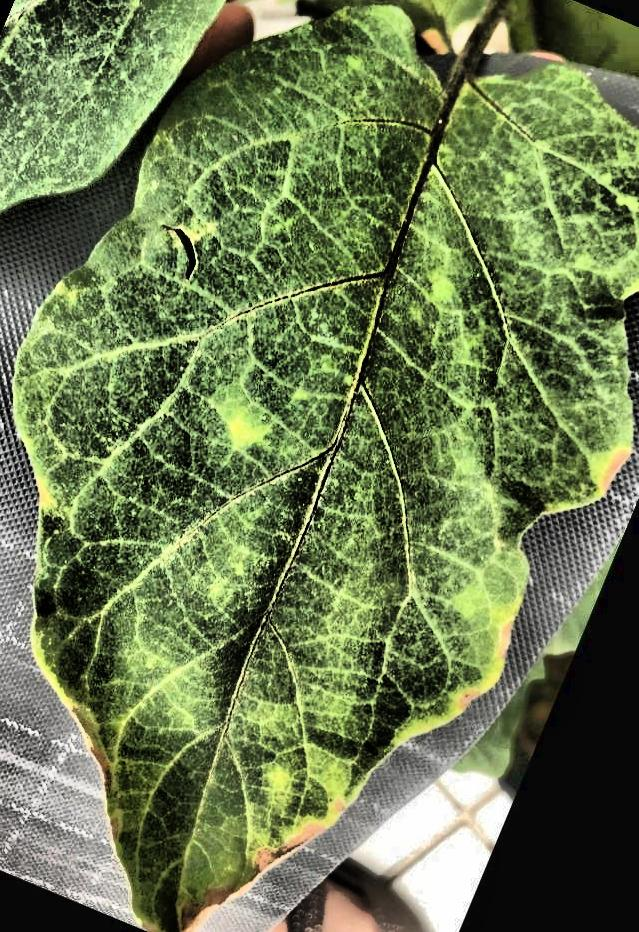Non-critical Stress: (1, 0, 639, 932)
